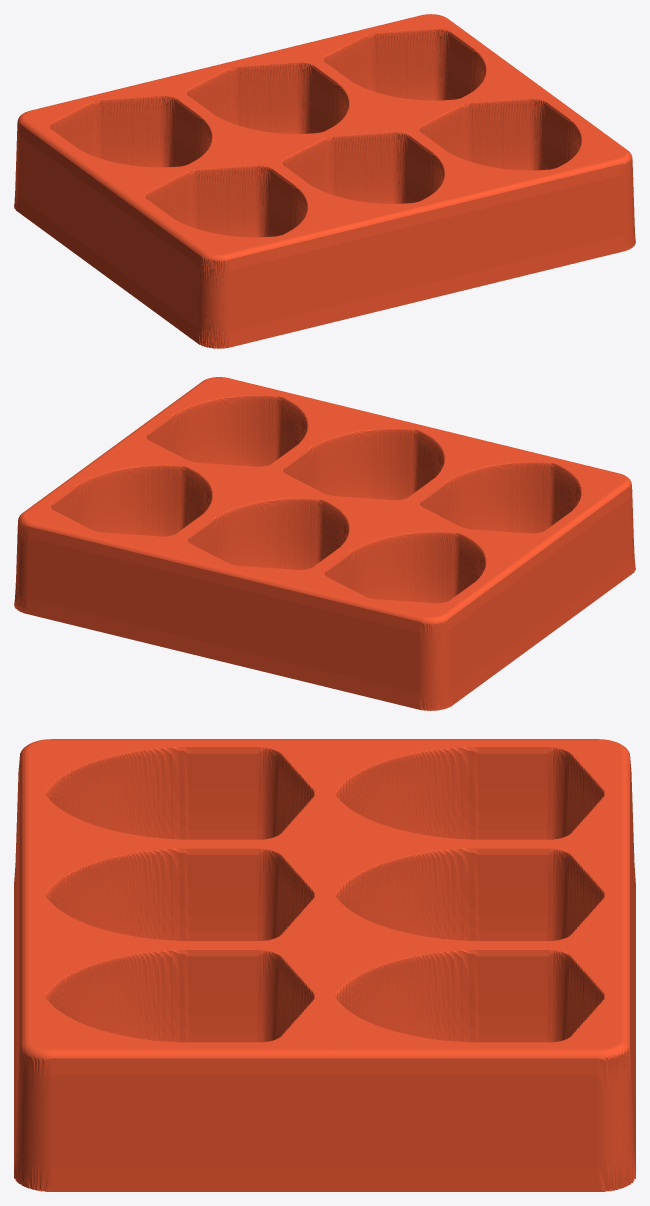
The model's file is mold.glb.
3 renders of one model, top to bottom at view 1: azimuth 30°, elevation 25°; view 2: azimuth 150°, elevation 25°; view 3: azimuth 270°, elevation 25°, orthographic. The views are drawn at different scales.
Parts seen in each view (by area): view 1: geometry_0; view 2: geometry_0; view 3: geometry_0.
Boxes of the visible parts, <box> form: geometry_0: <box>14,14,635,348</box>; geometry_0: <box>14,377,635,710</box>; geometry_0: <box>14,739,635,1191</box>.
Size of the model in its own units: 0.1829 by 0.036 by 0.1492.
